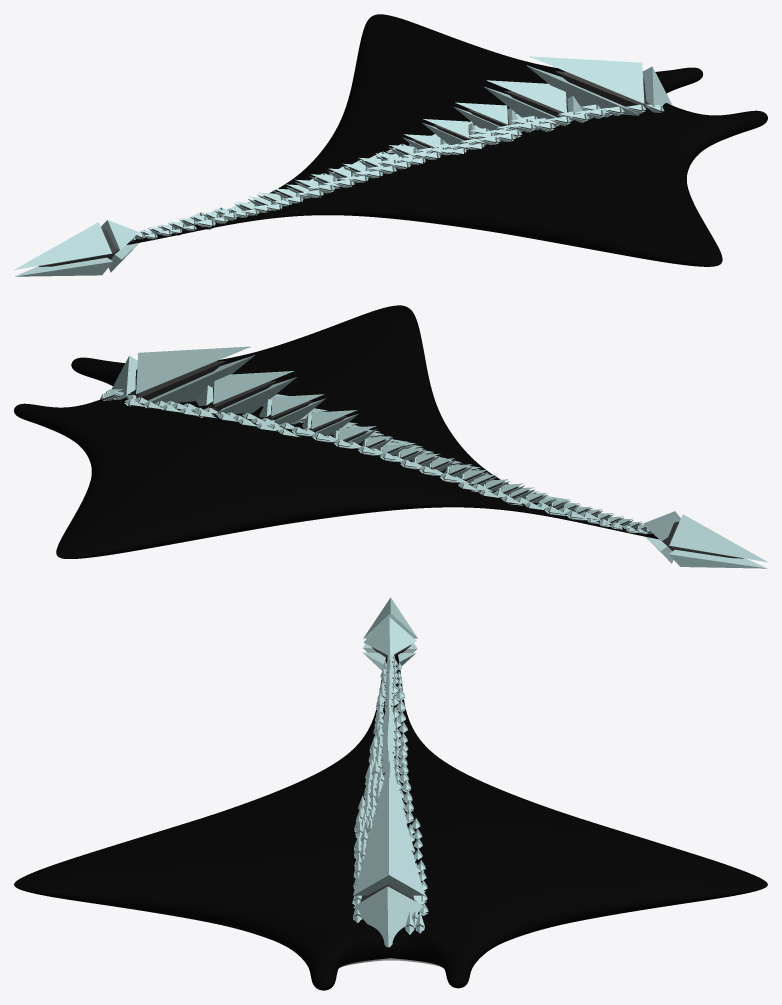
The picture shows the model from 3 angles, top to bottom: view 1: azimuth 30°, elevation 25°; view 2: azimuth 150°, elevation 25°; view 3: azimuth 270°, elevation 25°; orthographic projection. The views are drawn at different scales.
Parts seen in each view (by area): view 1: Cube.005, Cube.032, Cube.007; view 2: Cube.005, Cube.032, Cube.007; view 3: Cube.005, Cube.032.
Part boxes in pixels (x1,y1,x2,y2): Cube.005: [127, 14, 767, 266]; Cube.032: [14, 220, 138, 276]; Cube.007: [422, 119, 475, 143]; Cube.005: [14, 305, 658, 558]; Cube.032: [643, 511, 767, 568]; Cube.007: [302, 410, 358, 434]; Cube.005: [14, 654, 767, 990]; Cube.032: [363, 597, 417, 670].
Size of the model in its own units: 763 by 116 by 625.
